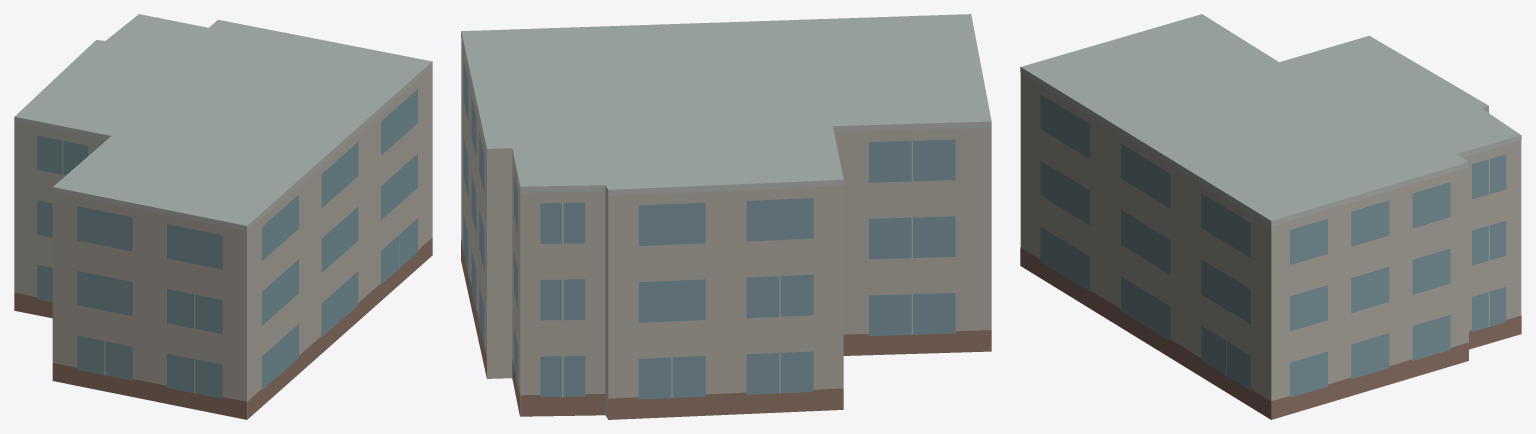
File: survey-upis-33030558.glb
3 views of the same model, side by side, from view 1: azimuth 30°, elevation 25°; view 2: azimuth 150°, elevation 25°; view 3: azimuth 270°, elevation 25° (orthographic). The views are drawn at different scales.
Parts seen in each view (by area): view 1: survey-upis-33030558.tmp; view 2: survey-upis-33030558.tmp; view 3: survey-upis-33030558.tmp.
Part boxes in pixels (x1,y1,x2,y2): survey-upis-33030558.tmp: [14, 14, 432, 419]; survey-upis-33030558.tmp: [461, 14, 991, 419]; survey-upis-33030558.tmp: [1020, 14, 1521, 419].
Bounding box in the file's own units: 20.42 × 9.15 × 20.89.
